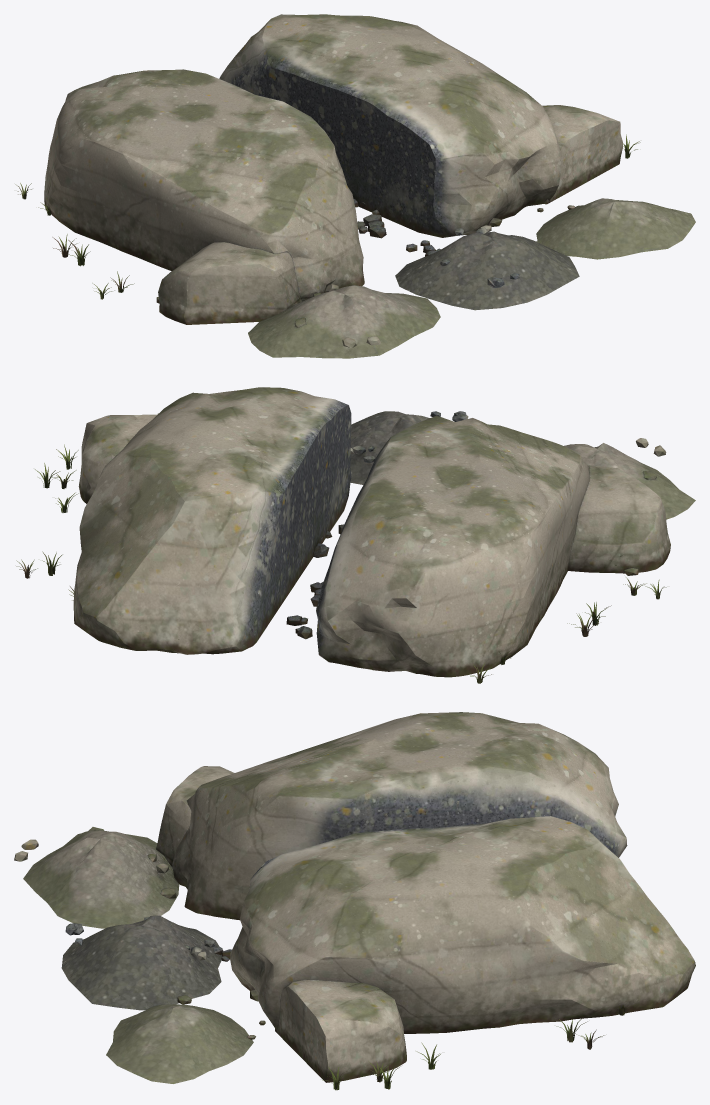
Rendered from silver_vein.glb.
3 renders of one model, top to bottom at view 1: azimuth 30°, elevation 25°; view 2: azimuth 150°, elevation 25°; view 3: azimuth 270°, elevation 25°, orthographic. The views are drawn at different scales.
Parts seen in each view (by area): view 1: silver_vein_LOD0; view 2: silver_vein_LOD0; view 3: silver_vein_LOD0.
Part boxes in pixels (x1,y1,x2,y2): silver_vein_LOD0: (15, 14, 695, 358); silver_vein_LOD0: (16, 387, 695, 683); silver_vein_LOD0: (14, 712, 695, 1090).
Size of what is drawn, in the model's own units: 11.35 by 2.39 by 10.75.
1 material, 1 textured.
